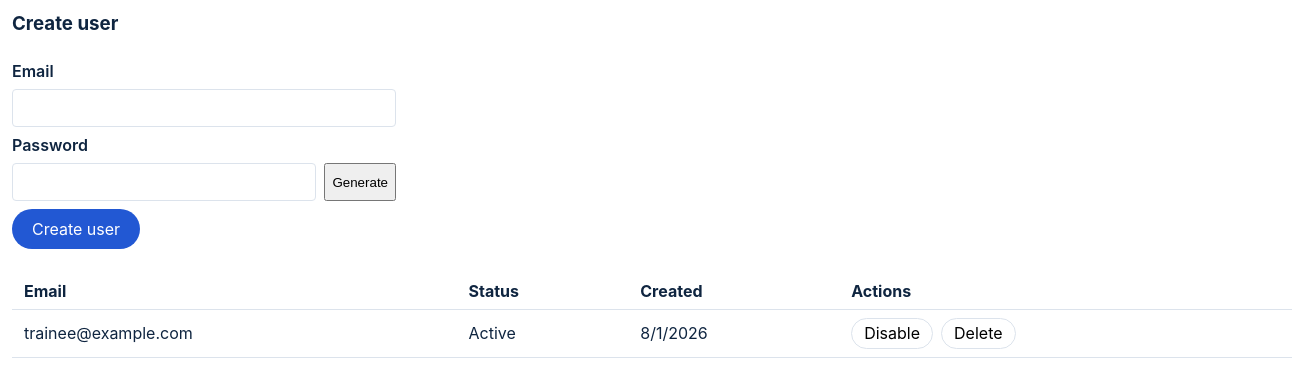
AdminUsers › disables a user
Check: the text "trainee@example.com" is shown, box top-left (12, 309), bottom-right (456, 358)
Click the button "Disable": (892, 333) top-left (851, 318), bottom-right (933, 349)
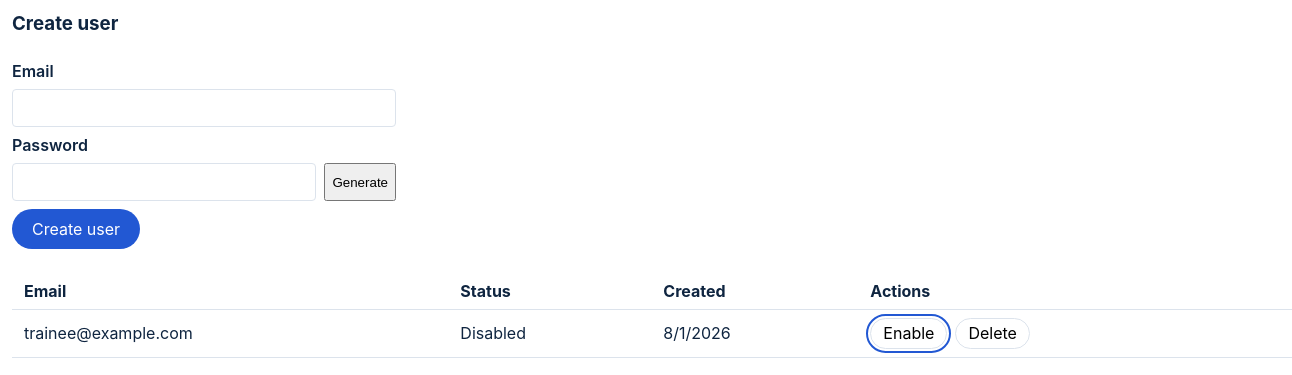
Check: the text "Disabled" is shown, box top-left (448, 309), bottom-right (651, 358)
